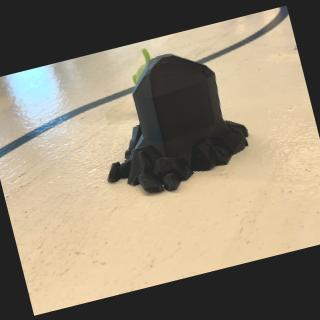teletubby: (132, 48, 150, 84)
